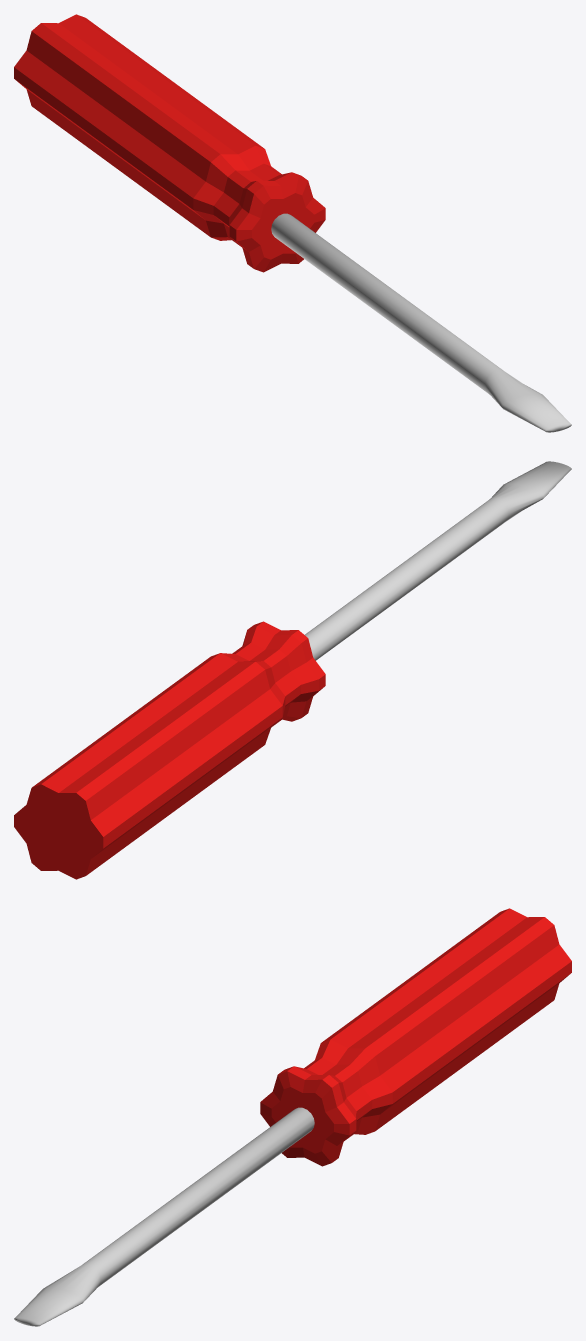
Rendered from screwdriver.fbx.
The picture shows the model from 3 angles, top to bottom: view 1: azimuth 30°, elevation 25°; view 2: azimuth 150°, elevation 25°; view 3: azimuth 330°, elevation 25°; orthographic projection.
Parts seen in each view (by area): view 1: screwdriver; view 2: screwdriver; view 3: screwdriver.
Part boxes in pixels (x1,y1,x2,y2): screwdriver: (14,14,571,432); screwdriver: (14,461,571,879); screwdriver: (14,908,571,1326).
Size of the model in its own units: 217 by 201 by 2100.
